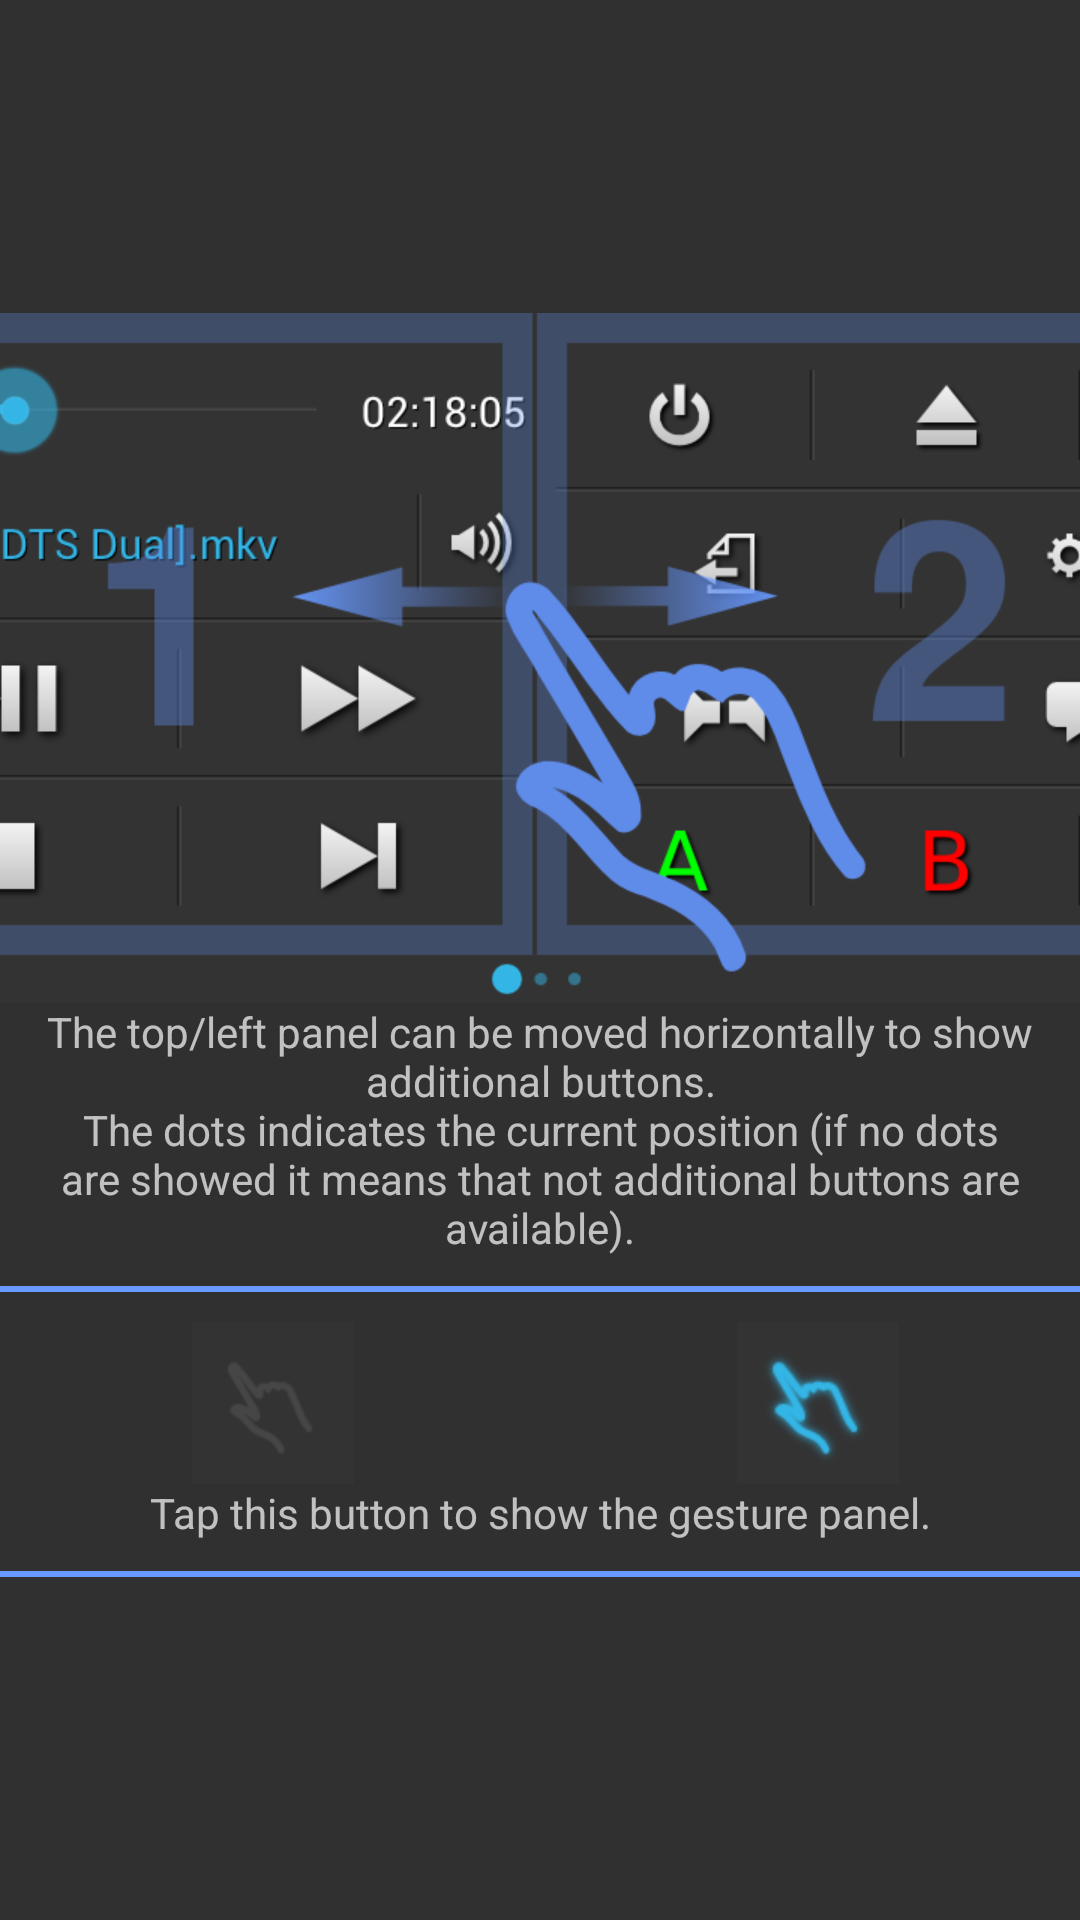

Icons on this 1080px×1920px Android screen, each with its box as (x1, y1, x2, y2):
handon: (769, 1358, 861, 1457)
